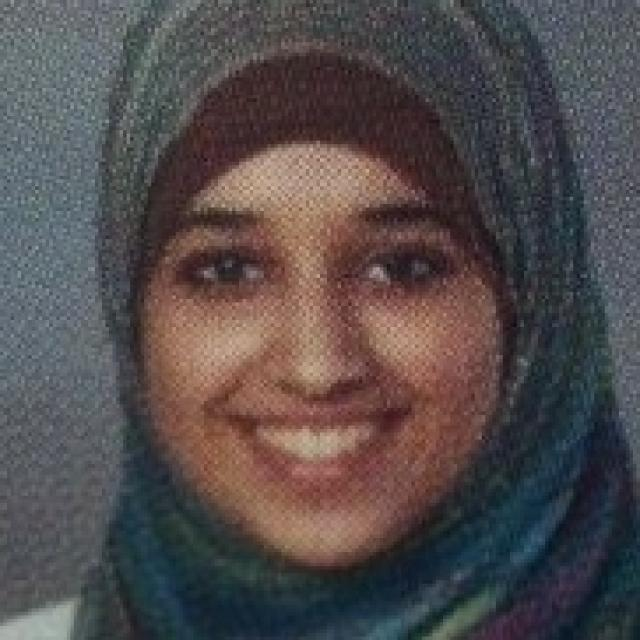Normal: (134, 60, 514, 568)
